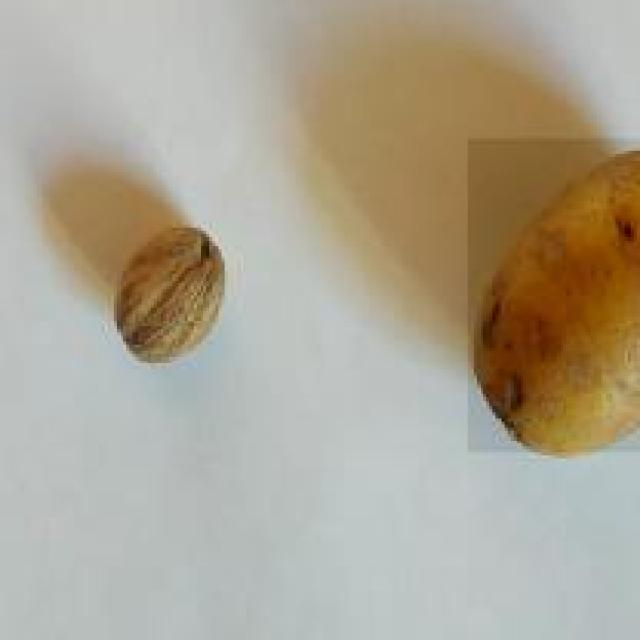potato: (464, 141, 640, 458)
